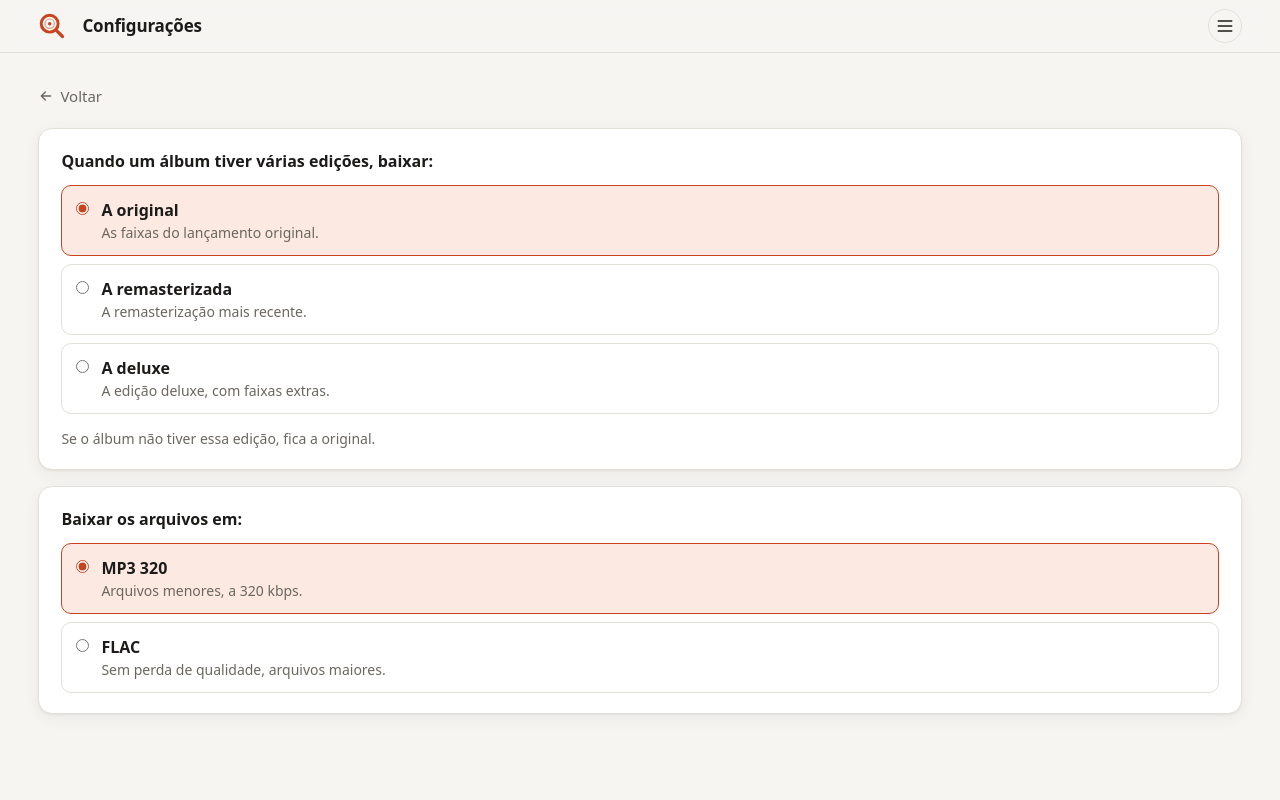
Test: SettingsPage › avisa quando não consegue salvar
The width and height of the screenshot is (1280, 800).
Click the radio button labelled "A deluxe A edição deluxe, com faixas extras." at (83,366), box [76,360,89,372]
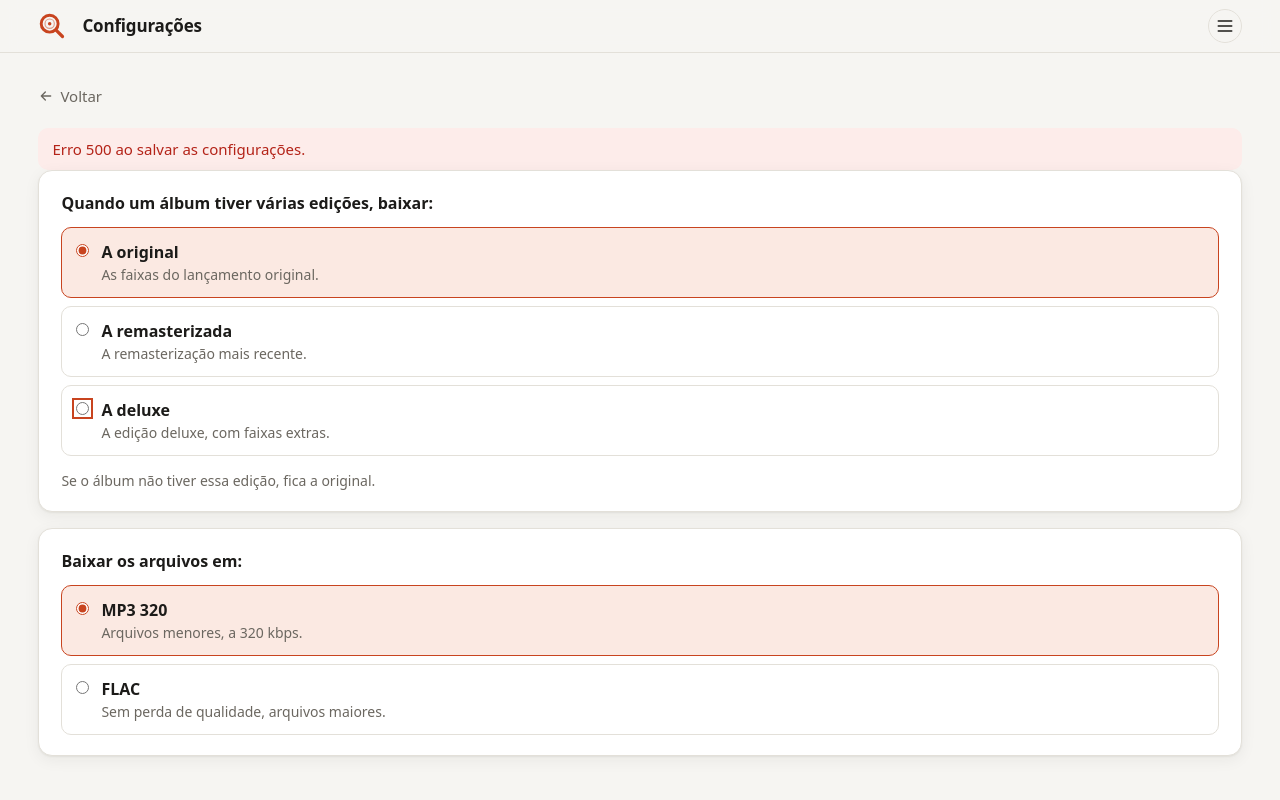
expect the message reads "Erro 500 ao salvar as configurações.": met, box [52,138,305,158]
